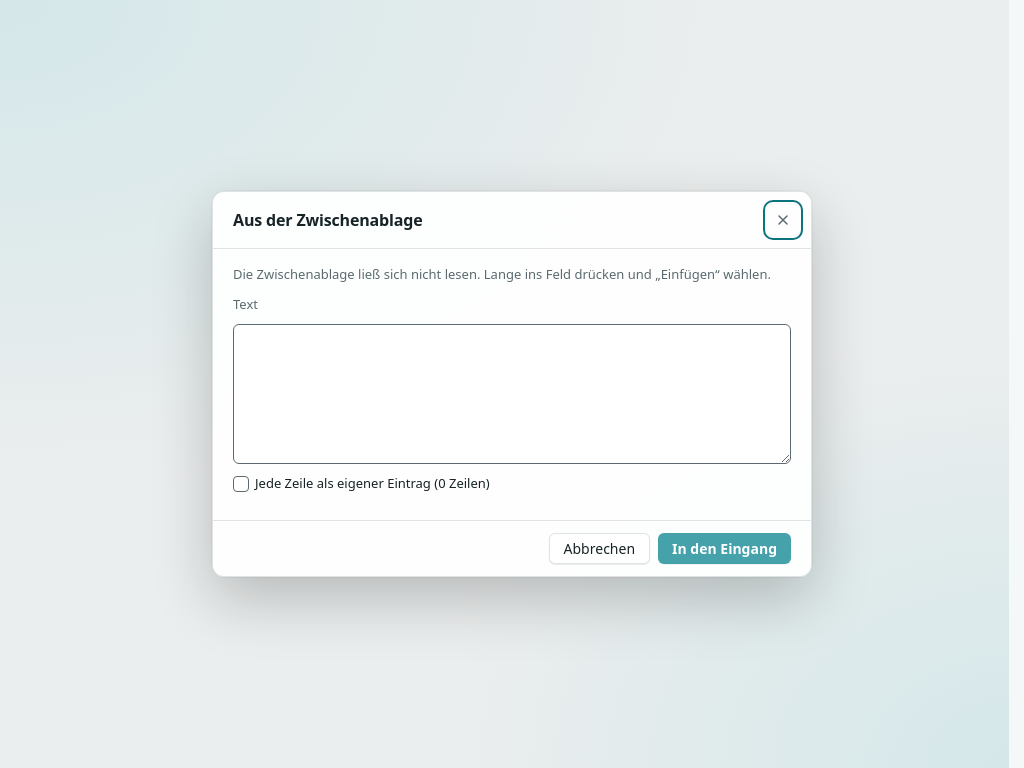
Test case: "Aus Zwischenablage" with the dialog to paste into (MO-6) › opens without a text, says how to paste and shows no error while the field is empty
Expected: the text "Die Zwischenablage ließ sich nicht lesen. Lange ins Feld drücken und „Einfügen“ wählen." is shown, top-left (233, 265), bottom-right (771, 283)
Type "Paket abholen" into the text box labelled "Text" at (512, 394), box top-left (233, 324), bottom-right (791, 464)
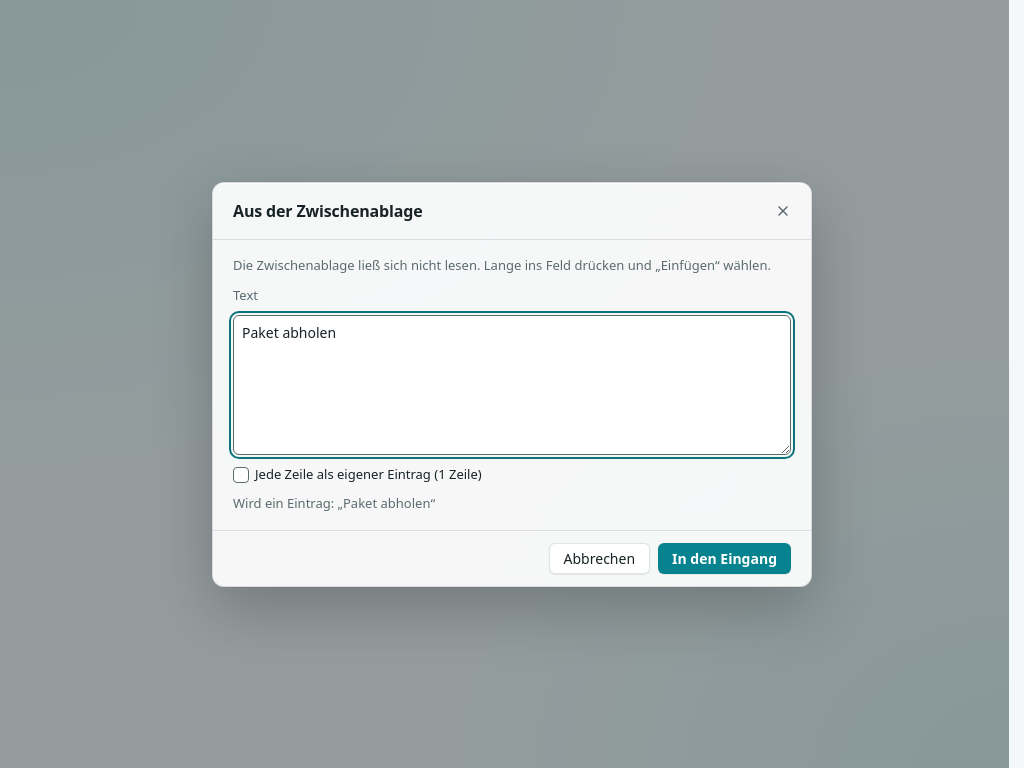
Now the text "Wird ein Eintrag: „Paket abholen“" is shown, box top-left (233, 494), bottom-right (435, 512)
